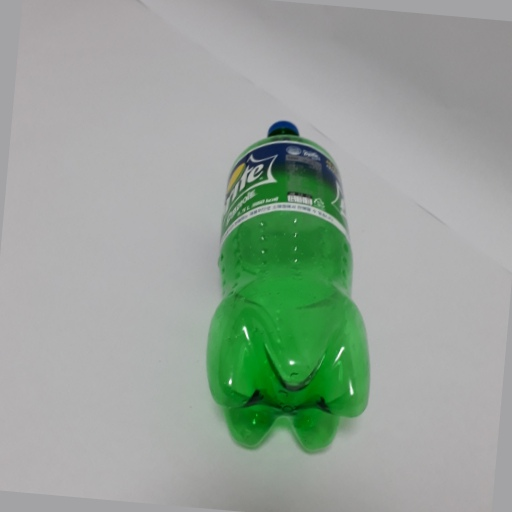Plastic_0: (206, 115, 375, 461)
